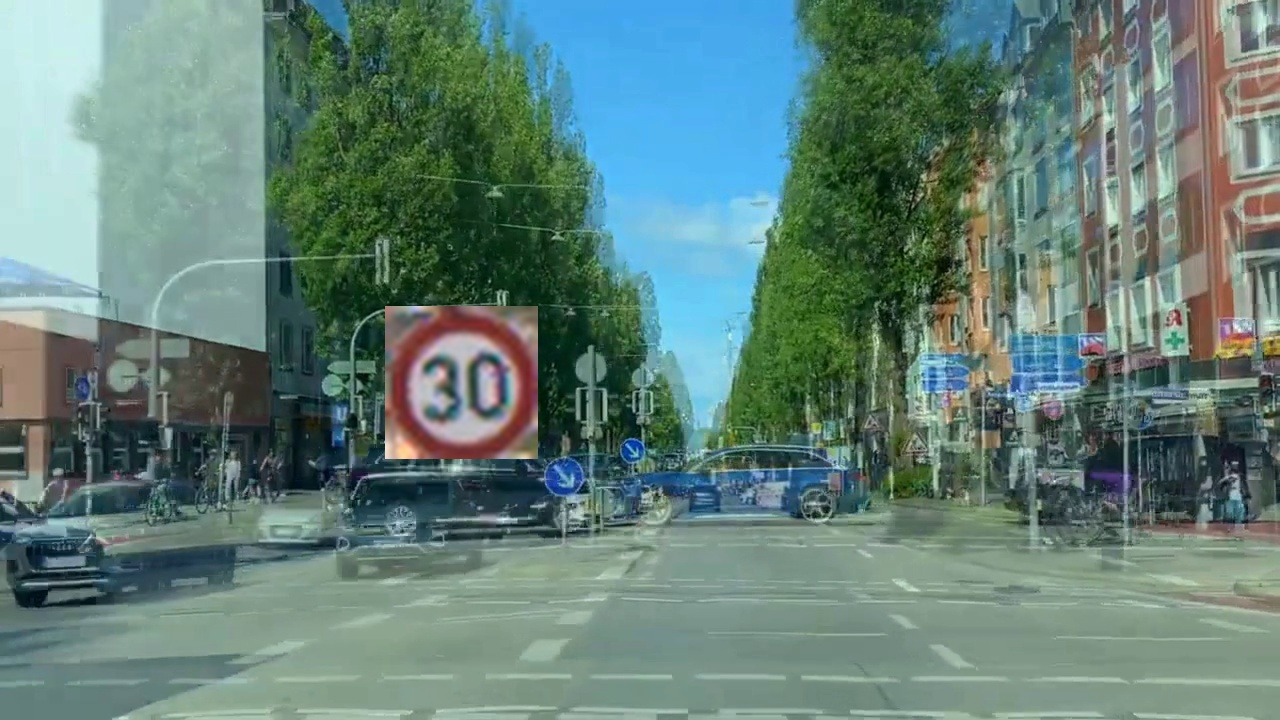Speed 30: (385, 306, 538, 459)
